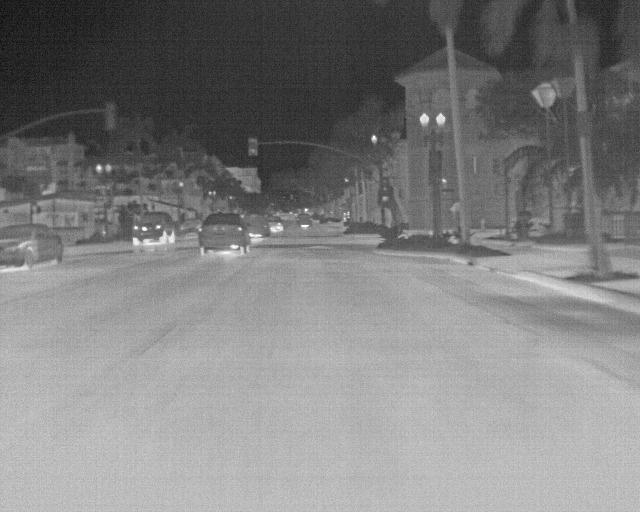car: (0, 222, 64, 271), (198, 212, 250, 256), (131, 211, 176, 248), (244, 214, 267, 238), (268, 216, 285, 235), (298, 213, 313, 228)
